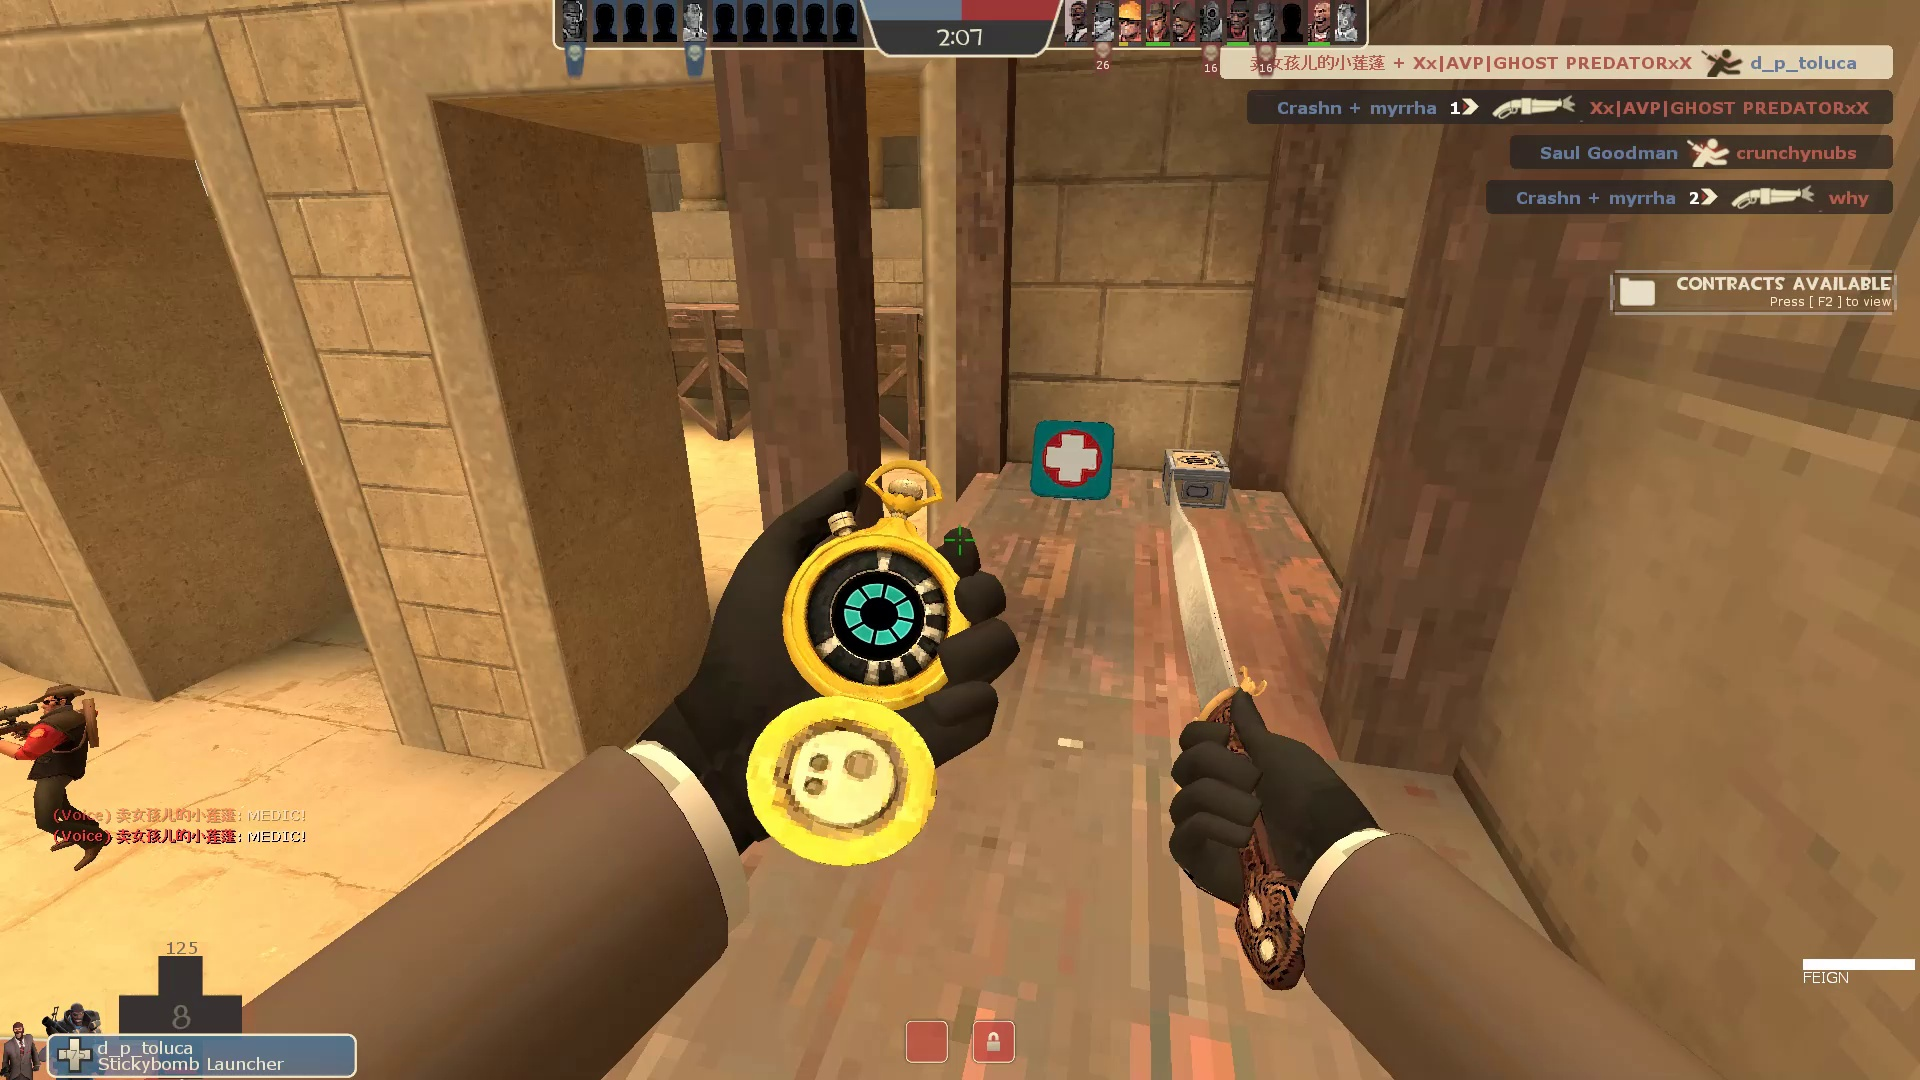red_sniper: (1, 680, 127, 876)
